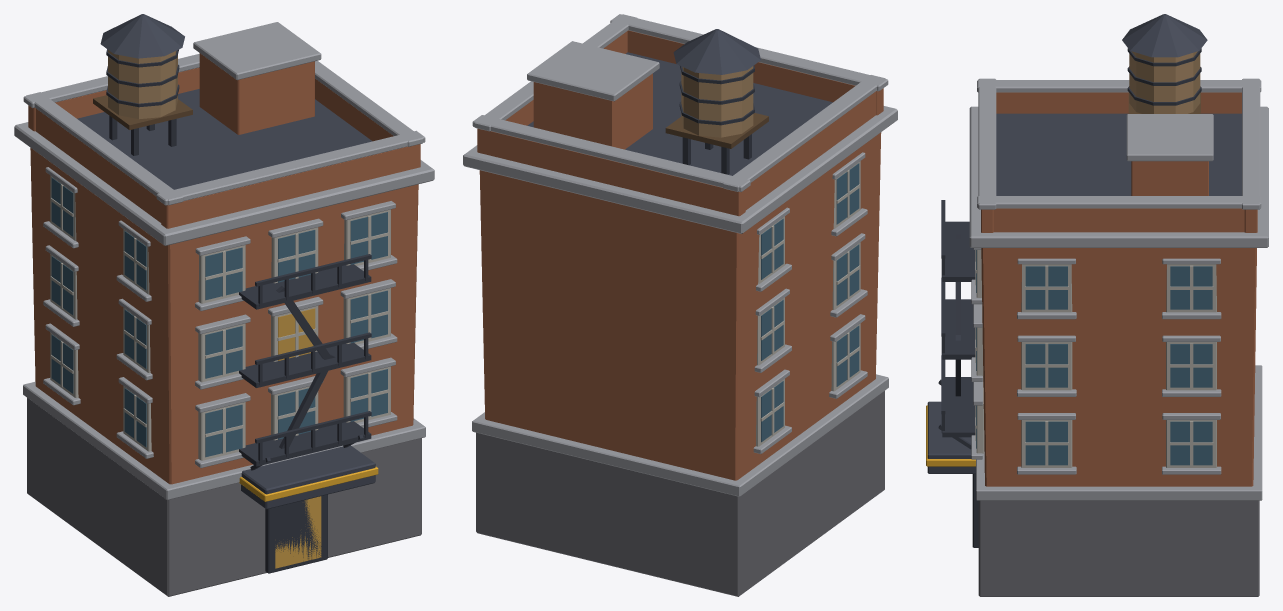
File: Stylized_Apoc_Building_01_Residential_Ruin.fbx
3 views of the same model, side by side, from view 1: azimuth 30°, elevation 25°; view 2: azimuth 150°, elevation 25°; view 3: azimuth 270°, elevation 25° (orthographic). The views are drawn at different scales.
Parts seen in each view (by area): view 1: Stylized_Apoc_Building_01_Residential_Ruin; view 2: Stylized_Apoc_Building_01_Residential_Ruin; view 3: Stylized_Apoc_Building_01_Residential_Ruin.
Part boxes in pixels (<box>): Stylized_Apoc_Building_01_Residential_Ruin: <box>14,14,434,596</box>; Stylized_Apoc_Building_01_Residential_Ruin: <box>463,14,897,596</box>; Stylized_Apoc_Building_01_Residential_Ruin: <box>926,14,1268,596</box>.
Bounding box in the file's own units: 5.78 × 10.14 × 6.39.
